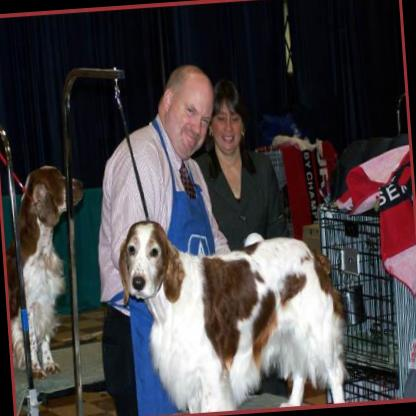Welsh_springer_spaniel: (113, 204, 350, 416), (0, 160, 97, 379)
